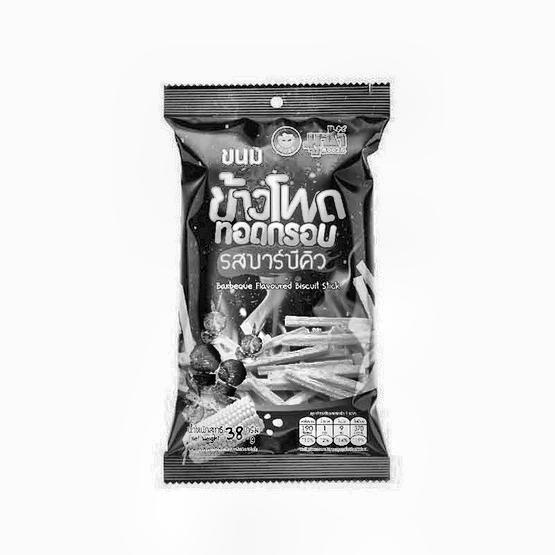snackbag: (142, 61, 429, 516)
